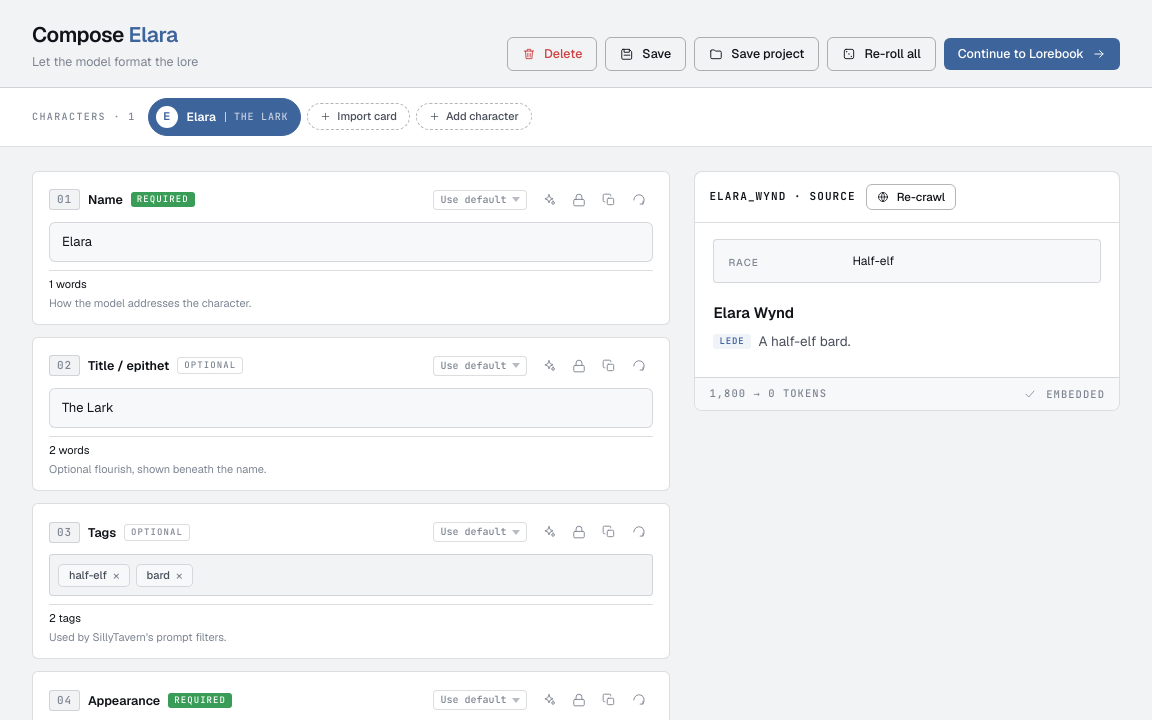
EditorScreen field endpoint assignment › reports the failure and rolls the selection back when the save is rejected
Click the dropdown named "Endpoint for ": [480, 200] box [433,190,527,210]
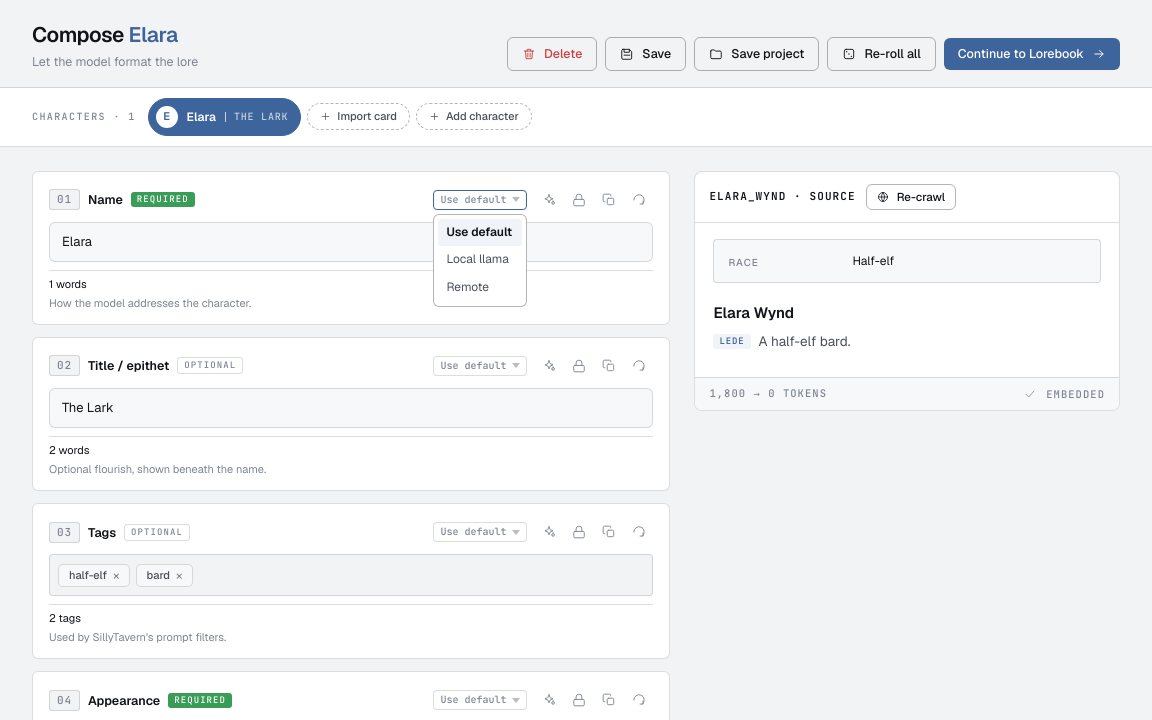
Click the option "Local llama": [478, 259] box [446,251,509,267]
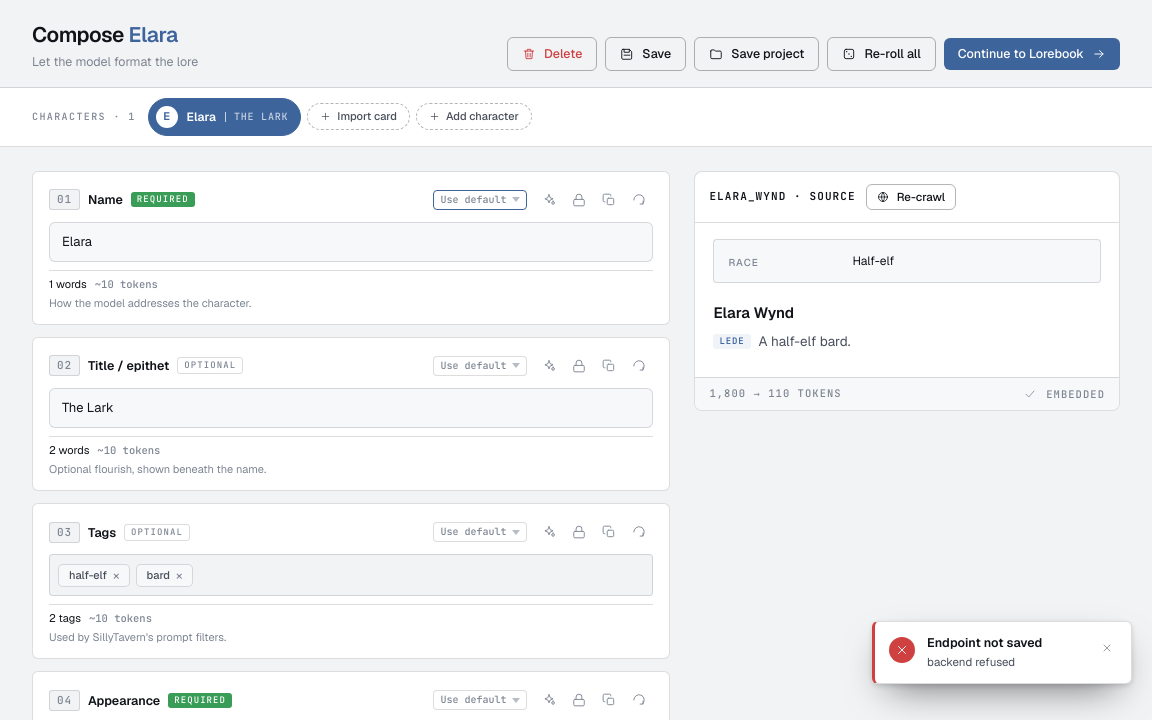
Expected: the dropdown named "Endpoint for " reads "Use default", [433,190,527,210]
Now the text "Endpoint not saved" is shown, box [927,634,1042,651]
Now the text "backend refused" is shown, box [927,654,1015,669]
